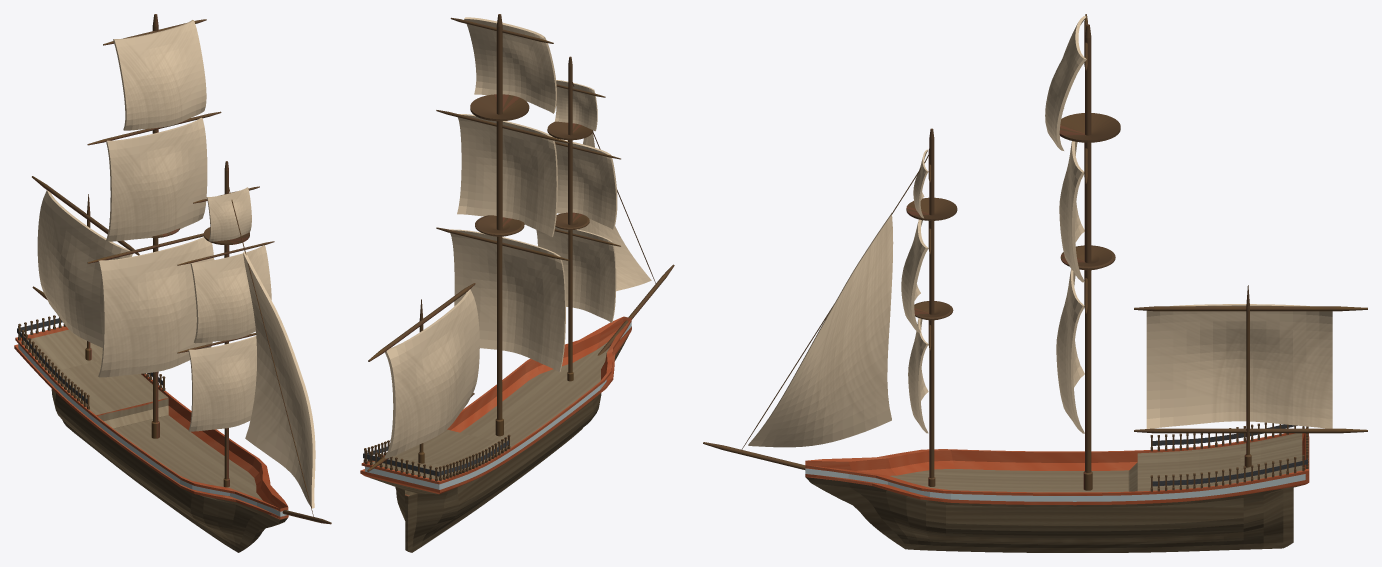
File: bergantin2.0.fbx
The picture shows the model from 3 angles, left to right: view 1: azimuth 30°, elevation 25°; view 2: azimuth 150°, elevation 25°; view 3: azimuth 270°, elevation 25°; orthographic projection. The views are drawn at different scales.
Parts seen in each view (by area): view 1: Cube, Plane, Plane.001, Plane.007, Plane.002, Plane.006, Plane.003, Plane.004, Plane.005, Cylinder, Cylinder.001, Cylinder.009 (+3 smaller); view 2: Cube, Plane, Plane.006, Plane.001, Plane.002, Cylinder.001, Plane.003, Plane.004, Cylinder, Plane.007, Plane.005, Cylinder.009 (+3 smaller); view 3: Cube, Plane.006, Plane.007, Cylinder.001, Cylinder, Plane, Plane.002, Plane.001, Plane.004, Plane.003, Cylinder.010, Cylinder.009.
Boxes of the visible parts, left/top/right/bottom form: Cube: left=14, top=326, right=288, bottom=552; Plane: left=98, top=237, right=214, bottom=377; Plane.001: left=106, top=117, right=207, bottom=241; Plane.007: left=243, top=252, right=315, bottom=508; Plane.002: left=113, top=20, right=206, bottom=130; Plane.006: left=37, top=190, right=132, bottom=347; Plane.003: left=188, top=336, right=256, bottom=431; Plane.004: left=190, top=245, right=271, bottom=343; Plane.005: left=206, top=187, right=251, bottom=241; Cylinder: left=203, top=161, right=249, bottom=487; Cylinder.001: left=151, top=14, right=179, bottom=438; Cylinder.009: left=32, top=176, right=139, bottom=255; Cube: left=360, top=316, right=631, bottom=552; Plane: left=450, top=229, right=565, bottom=372; Plane.006: left=384, top=289, right=479, bottom=458; Plane.001: left=457, top=114, right=557, bottom=236; Plane.002: left=464, top=17, right=556, bottom=113; Cylinder.001: left=470, top=14, right=529, bottom=436; Plane.003: left=536, top=227, right=616, bottom=322; Plane.004: left=554, top=139, right=617, bottom=229; Cylinder: left=547, top=56, right=593, bottom=381; Plane.007: left=578, top=133, right=651, bottom=291; Plane.005: left=554, top=80, right=597, bottom=131; Cylinder.009: left=368, top=283, right=475, bottom=361; Cube: left=805, top=433, right=1309, bottom=552; Plane.006: left=1146, top=304, right=1332, bottom=428; Plane.007: left=748, top=213, right=893, bottom=447; Cylinder.001: left=1059, top=24, right=1120, bottom=490; Cylinder: left=906, top=128, right=957, bottom=486; Plane: left=1056, top=269, right=1084, bottom=433; Plane.002: left=1045, top=16, right=1086, bottom=150; Plane.001: left=1059, top=141, right=1084, bottom=282; Plane.004: left=901, top=219, right=928, bottom=332; Plane.003: left=908, top=318, right=928, bottom=433; Cylinder.010: left=1134, top=428, right=1367, bottom=433; Cylinder.009: left=1134, top=306, right=1367, bottom=311.
Bounding box in the file's own units: 1397 × 4813 × 5501.
